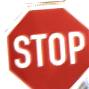Stop sign: (0, 0, 88, 88)
